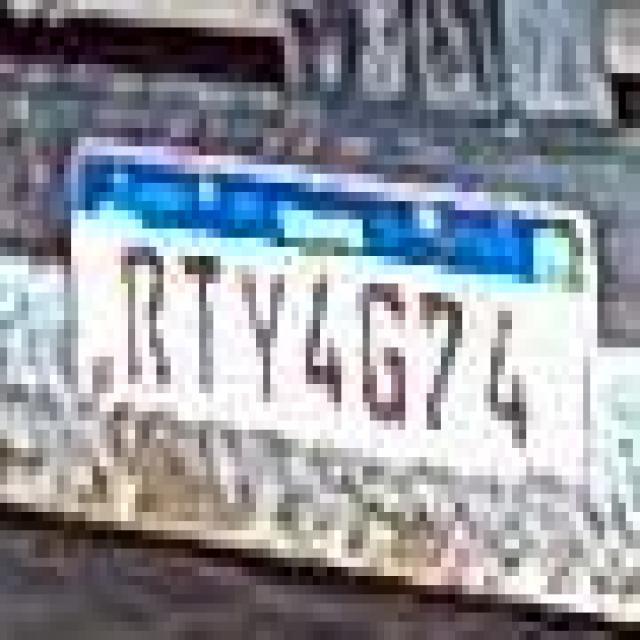4: (478, 282, 542, 457), (292, 260, 356, 422)
7: (410, 280, 468, 448)
G: (353, 270, 421, 448)
R: (115, 234, 177, 401)
T: (177, 238, 237, 404)
Y: (241, 244, 289, 420)
